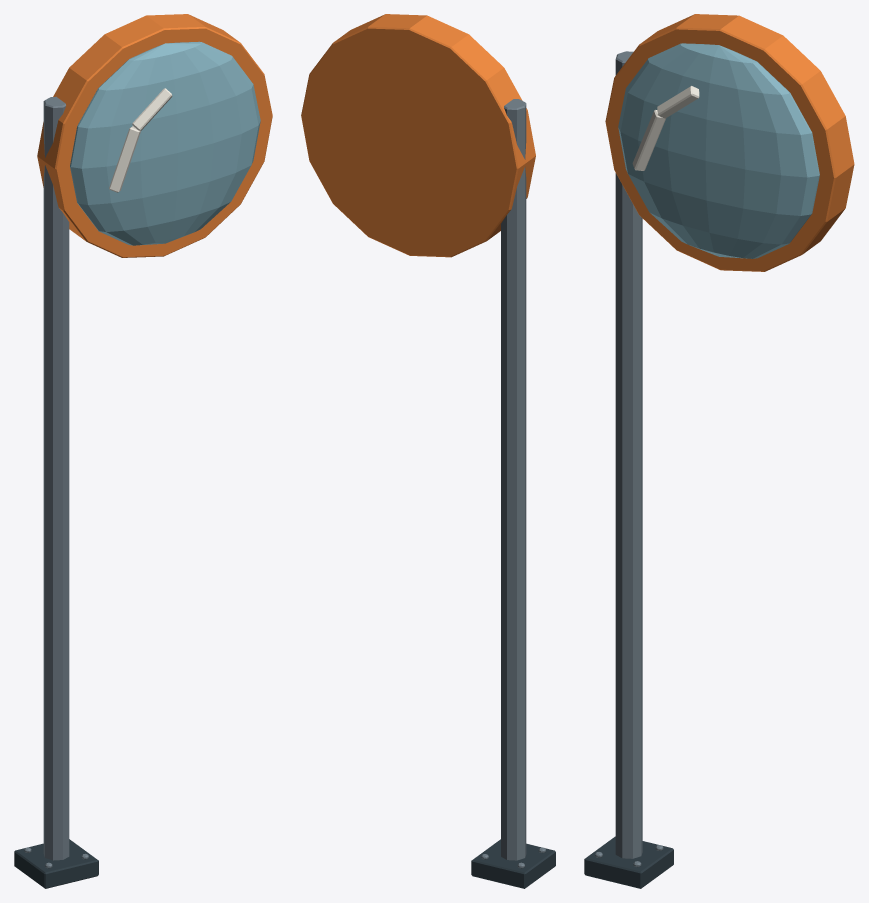
The model's file is b02_convex_traffic_mirror.glb.
3 views of the same model, side by side, from view 1: azimuth 30°, elevation 25°; view 2: azimuth 150°, elevation 25°; view 3: azimuth 330°, elevation 25° (orthographic). The views are drawn at different scales.
Parts seen in each view (by area): view 1: b02_convex_traffic_mirror; view 2: b02_convex_traffic_mirror; view 3: b02_convex_traffic_mirror.
Boxes of the visible parts, <box> form: b02_convex_traffic_mirror: <box>14,14,272,888</box>; b02_convex_traffic_mirror: <box>301,14,555,888</box>; b02_convex_traffic_mirror: <box>584,14,854,888</box>.
Bounding box in the file's own units: 0.77 × 2.61 × 0.2503.
